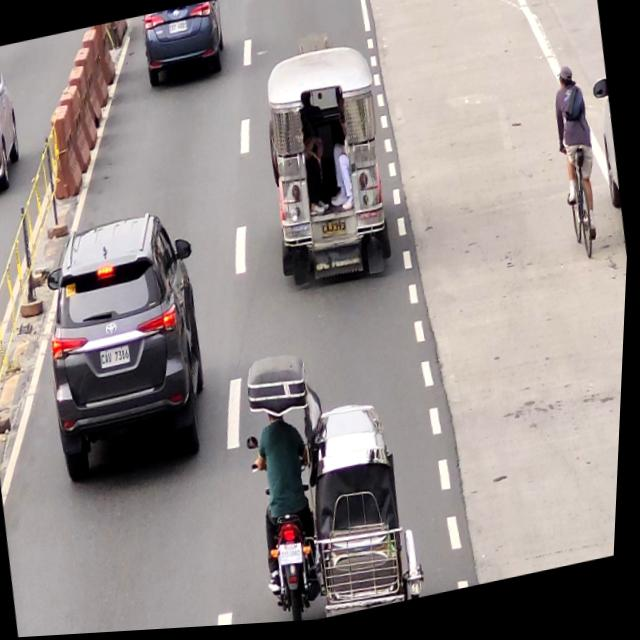Bicycle: (543, 65, 616, 269)
Car: (32, 209, 225, 487), (137, 2, 229, 89)
Jeep: (251, 41, 406, 303)
License-Plate: (281, 538, 314, 575), (101, 344, 138, 377), (323, 222, 352, 248), (168, 22, 189, 38)
Tricycle: (236, 333, 443, 628)
